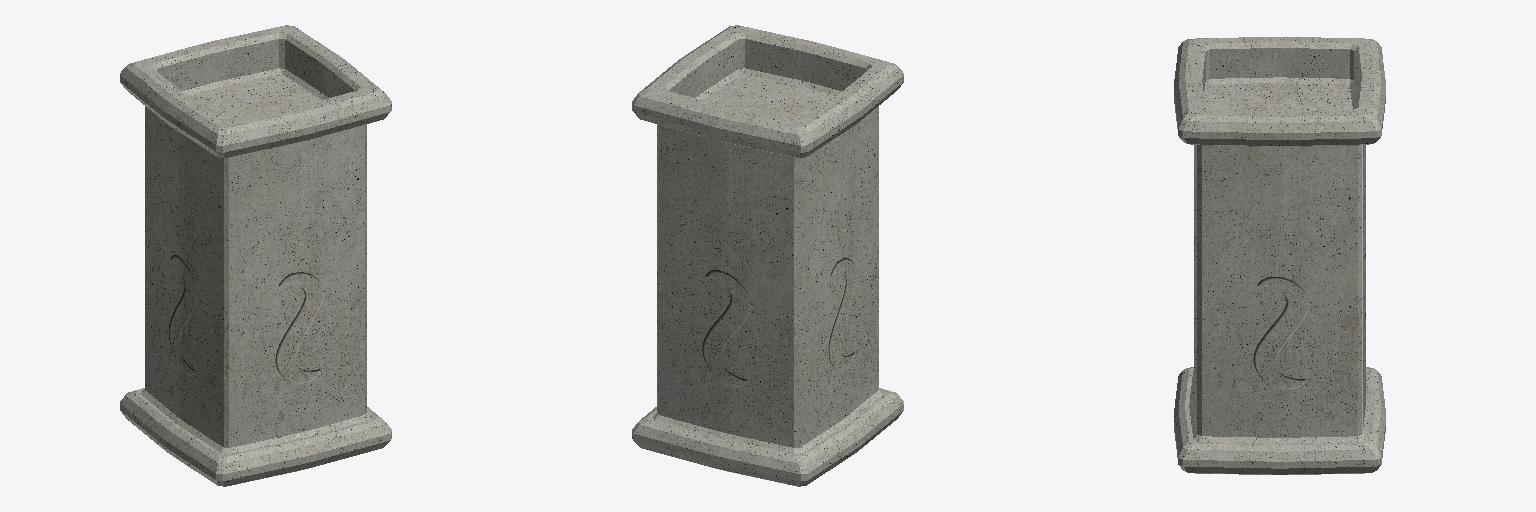
3 views of the same model, side by side, from view 1: azimuth 30°, elevation 25°; view 2: azimuth 150°, elevation 25°; view 3: azimuth 270°, elevation 25° (orthographic).
Parts seen in each view (by area): view 1: wind_Plane; view 2: wind_Plane; view 3: wind_Plane.
Boxes of the visible parts, x1=… form: wind_Plane: x1=120, y1=25, x2=391, y2=486; wind_Plane: x1=632, y1=25, x2=903, y2=486; wind_Plane: x1=1174, y1=37, x2=1385, y2=474.
Size of the model in its own units: 0.1291 by 0.24 by 0.1291.
1 materials, 1 textured.